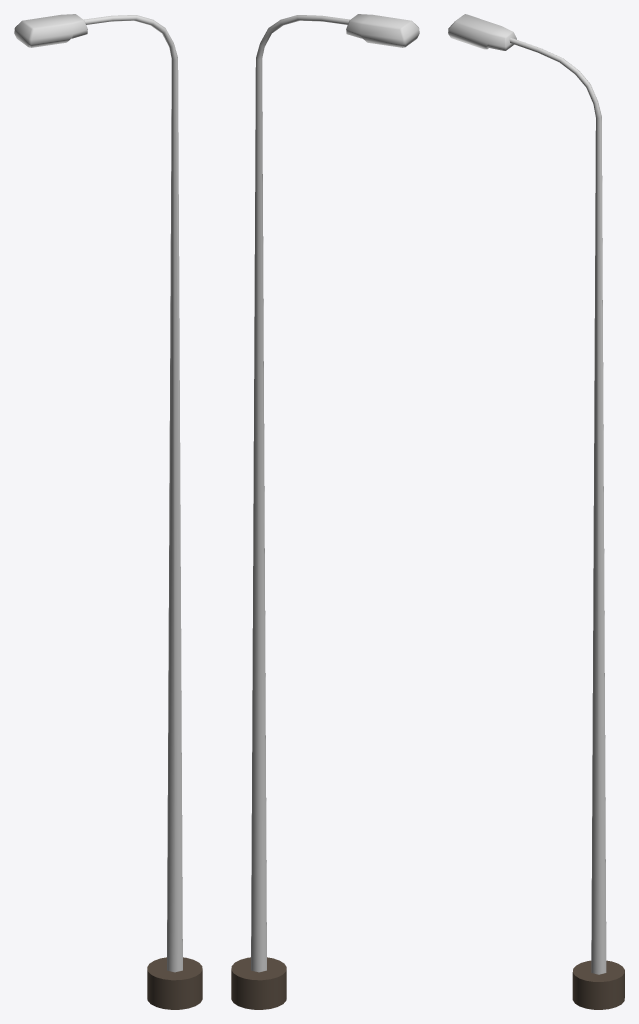
File: Street_Lamp.fbx
The picture shows the model from 3 angles, left to right: view 1: azimuth 30°, elevation 25°; view 2: azimuth 150°, elevation 25°; view 3: azimuth 330°, elevation 25°; orthographic projection. The views are drawn at different scales.
Parts seen in each view (by area): view 1: Street_Lamp.003; view 2: Street_Lamp.003; view 3: Street_Lamp.003.
Boxes of the visible parts, x1,y1,x2,y2 form: Street_Lamp.003: [14, 14, 202, 1009]; Street_Lamp.003: [231, 14, 419, 1009]; Street_Lamp.003: [448, 14, 624, 1009].
Bounding box in the file's own units: 30.57 × 166 × 8.31.
